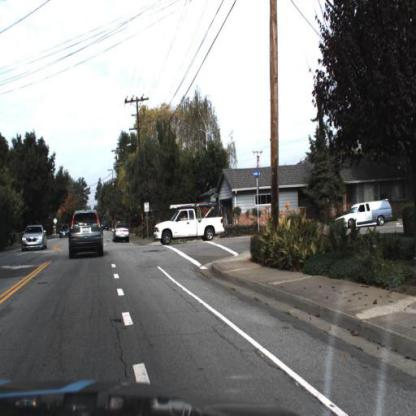car: (150, 204, 224, 244), (66, 210, 108, 259), (336, 199, 392, 229), (20, 221, 49, 252), (110, 221, 132, 245), (57, 216, 71, 242)
